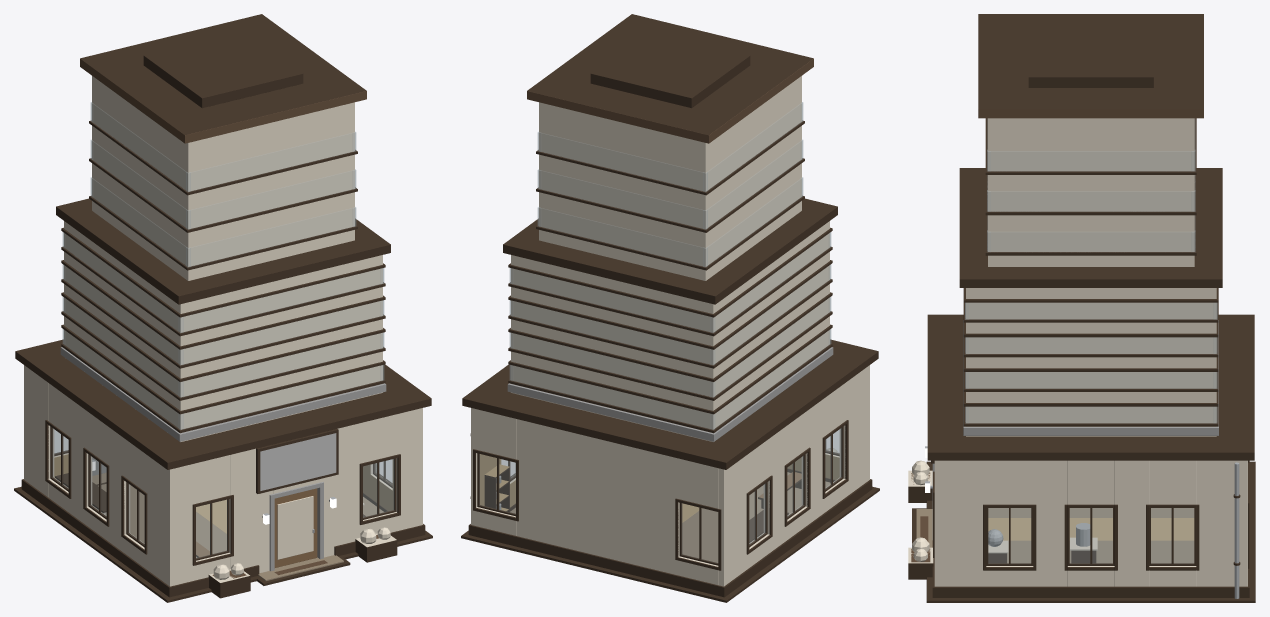
The model's file is content3_v1.glb.
3 renders of one model, left to right at view 1: azimuth 30°, elevation 25°; view 2: azimuth 150°, elevation 25°; view 3: azimuth 270°, elevation 25°, orthographic. The views are drawn at different scales.
Parts seen in each view (by area): view 1: SM_content3_v1_Shell, SM_content3_v1_Sign, SM_content3_v1_Door; view 2: SM_content3_v1_Shell; view 3: SM_content3_v1_Shell.
Part boxes in pixels (x1,y1,x2,y2): SM_content3_v1_Shell: (14,14,432,602); SM_content3_v1_Sign: (260,433,336,490); SM_content3_v1_Door: (274,488,317,567); SM_content3_v1_Shell: (461,14,879,602); SM_content3_v1_Shell: (908,14,1255,602).
Bounding box in the file's own units: 10.5 × 17 × 11.09.
